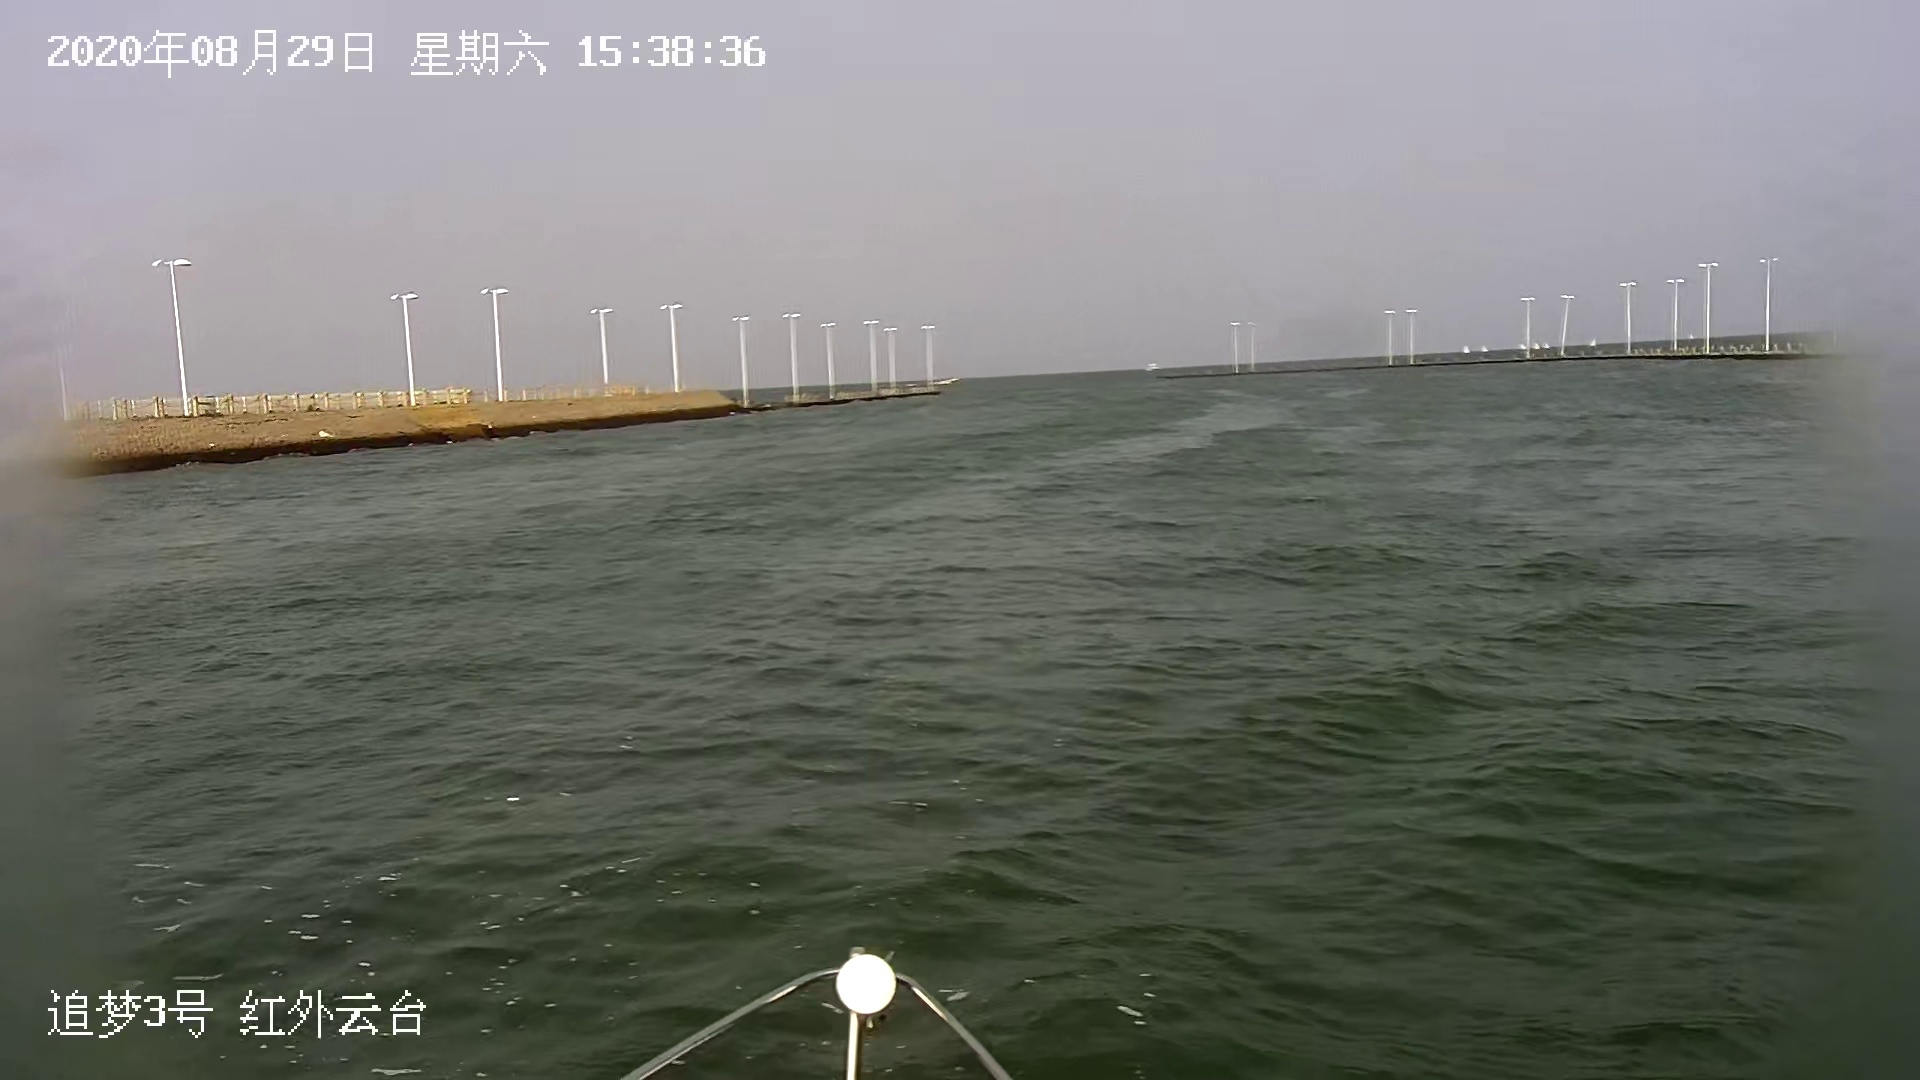barrier: (1138, 356, 1156, 372), (1542, 339, 1552, 349), (1480, 343, 1489, 353), (1462, 345, 1470, 356), (1531, 342, 1539, 352), (1589, 336, 1597, 347), (1519, 342, 1526, 352), (1689, 334, 1695, 340)
coast: (38, 240, 949, 458), (1142, 253, 1891, 378)
